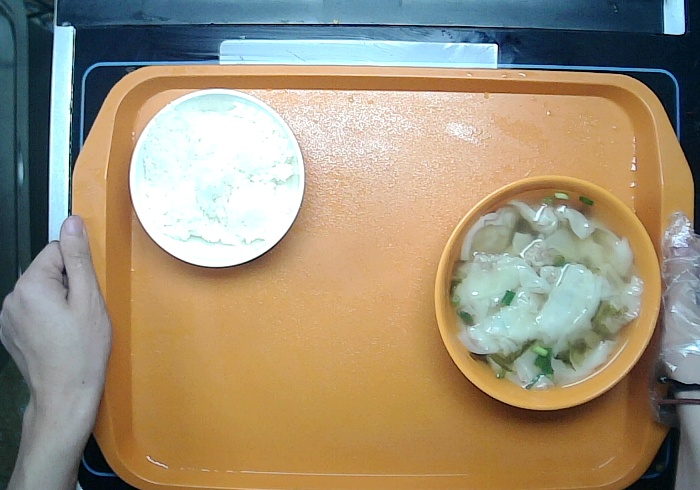NLDX-Fan_Wan: (128, 89, 305, 268)
NLDX-Hun_Tun_Wan: (432, 175, 661, 411)
